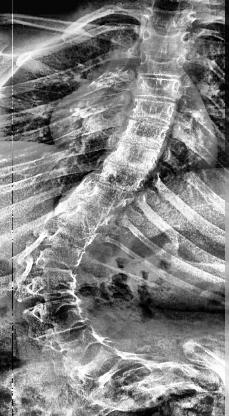Vertebrae: (55, 192, 107, 224), (97, 155, 150, 183), (78, 347, 121, 381), (80, 176, 128, 206), (49, 306, 85, 346), (59, 328, 100, 362), (26, 272, 84, 296), (35, 291, 85, 318), (92, 358, 136, 388), (122, 117, 176, 141), (137, 52, 189, 76), (115, 139, 163, 165), (140, 28, 188, 52), (130, 96, 180, 118), (50, 222, 92, 248), (136, 76, 184, 98), (144, 7, 190, 29), (38, 250, 84, 272)
